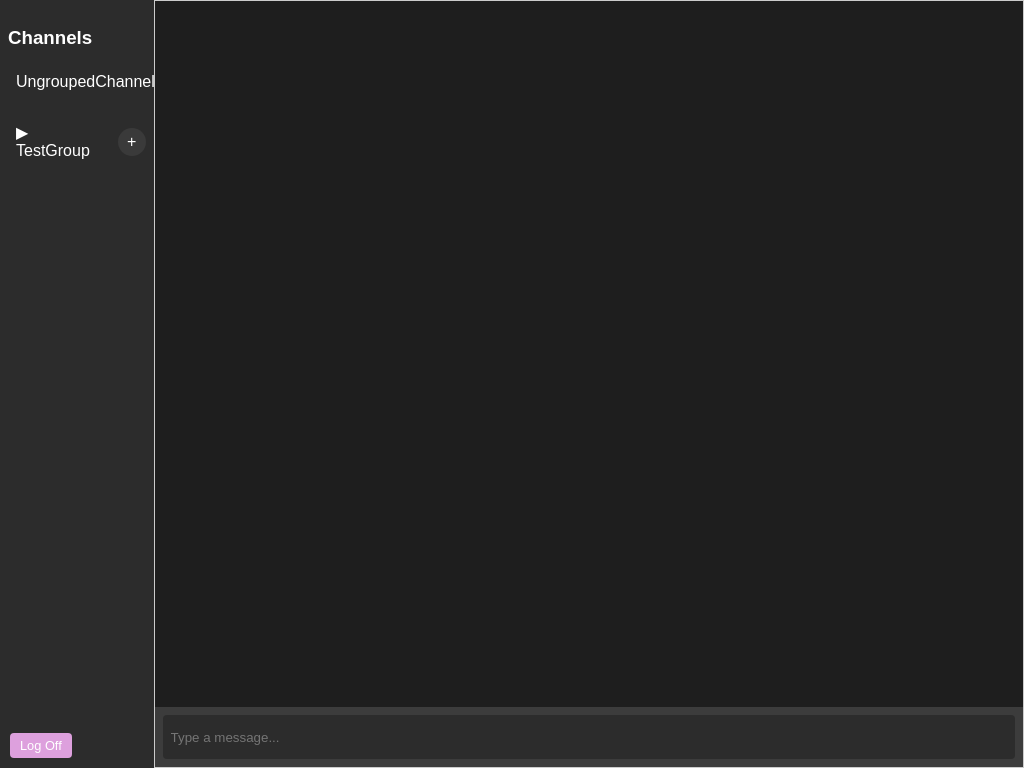
Test case: Channel UI Labels › shows the "Channels" heading and the group name
Expected: the heading "Channels" is shown, [8,27,92,48]
Expected: the button "UngroupedChannel" is shown, [8,67,146,97]
Click the button with class "group-btn": (59, 142) [8,117,110,166]
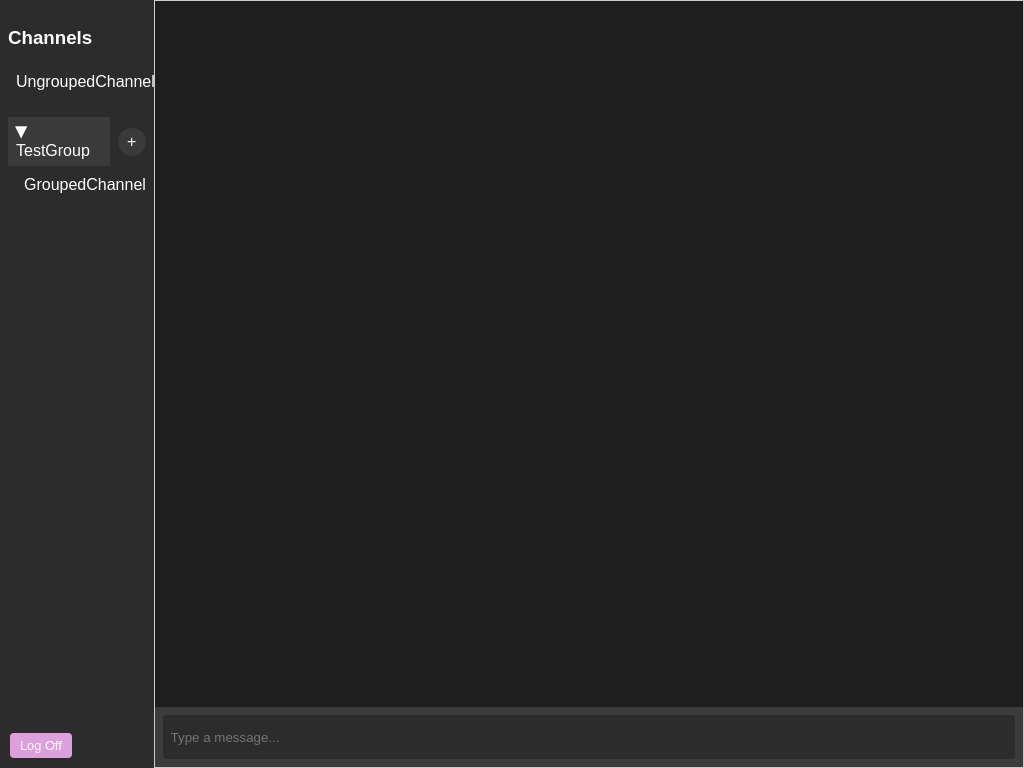
Expected: the button "GroupedChannel" is shown, [16,170,154,200]
